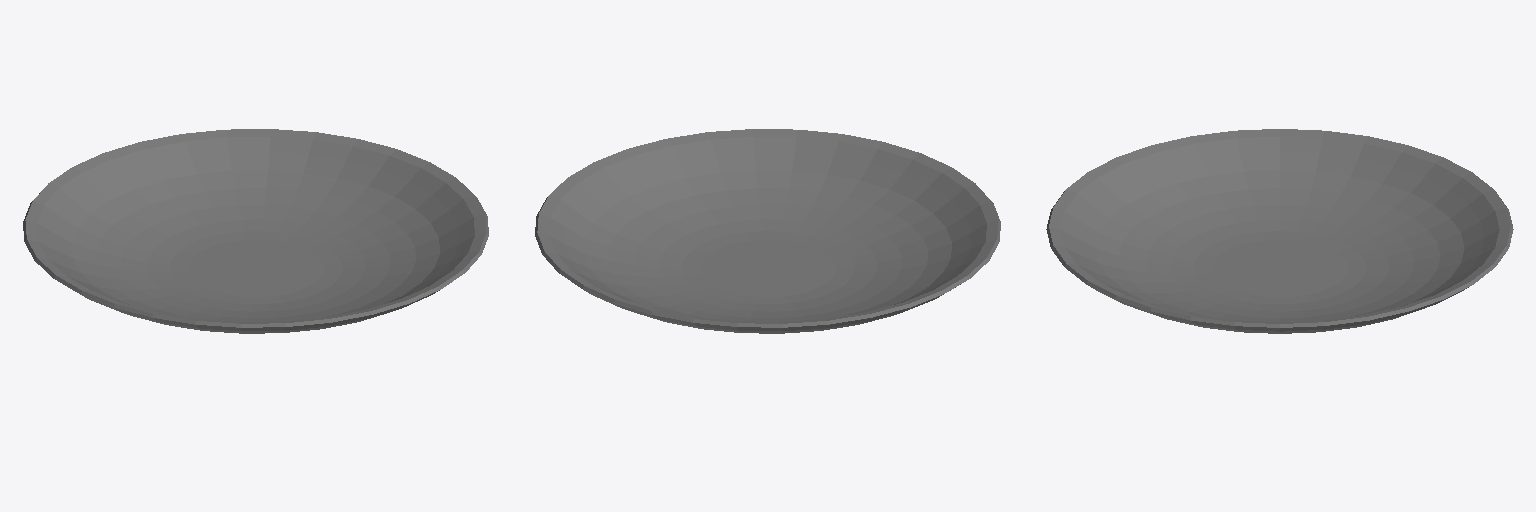
The model's file is Terracotta_Plate_LOD0_OBJ.obj.
The picture shows the model from 3 angles: view 1: azimuth 30°, elevation 25°; view 2: azimuth 150°, elevation 25°; view 3: azimuth 270°, elevation 25°; orthographic projection.
Visible parts, largest first — view 1: CylinderFBXASC046006; view 2: CylinderFBXASC046006; view 3: CylinderFBXASC046006.
Part boxes in pixels (bbox=[...]): CylinderFBXASC046006: bbox=[23, 129, 488, 333]; CylinderFBXASC046006: bbox=[535, 129, 1000, 333]; CylinderFBXASC046006: bbox=[1046, 129, 1513, 333].
Bounding box in the file's own units: 42.38 × 5.92 × 42.38.